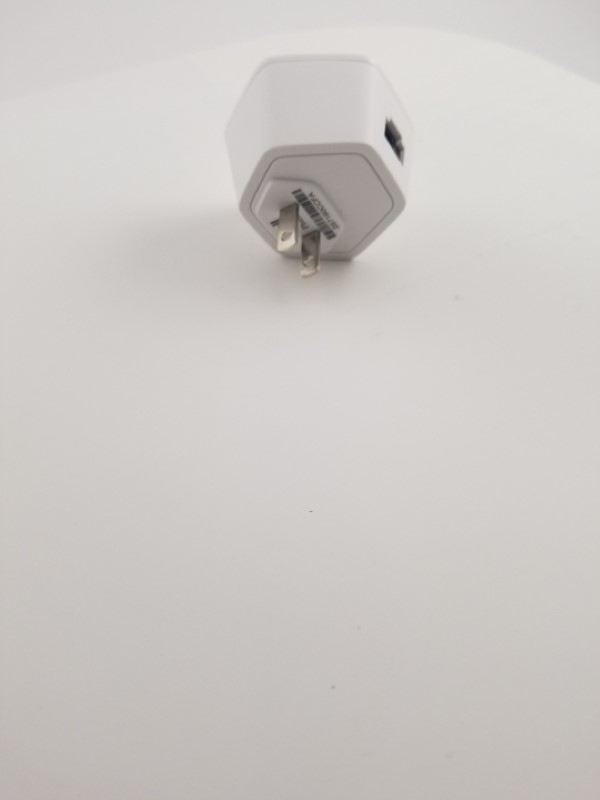pod: (218, 48, 417, 282)
